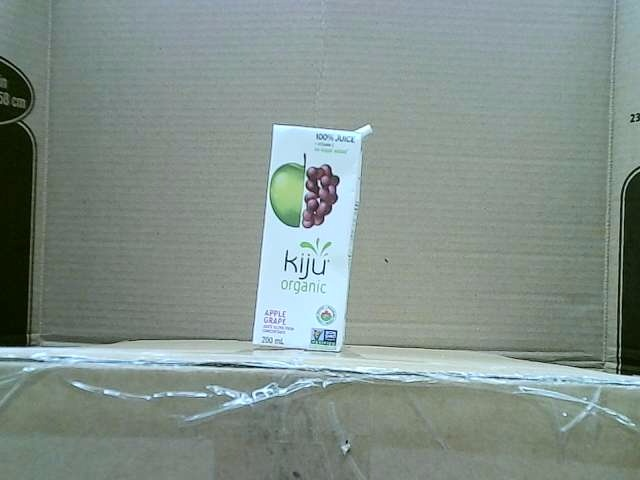JuiceBox: (252, 124, 374, 353)
